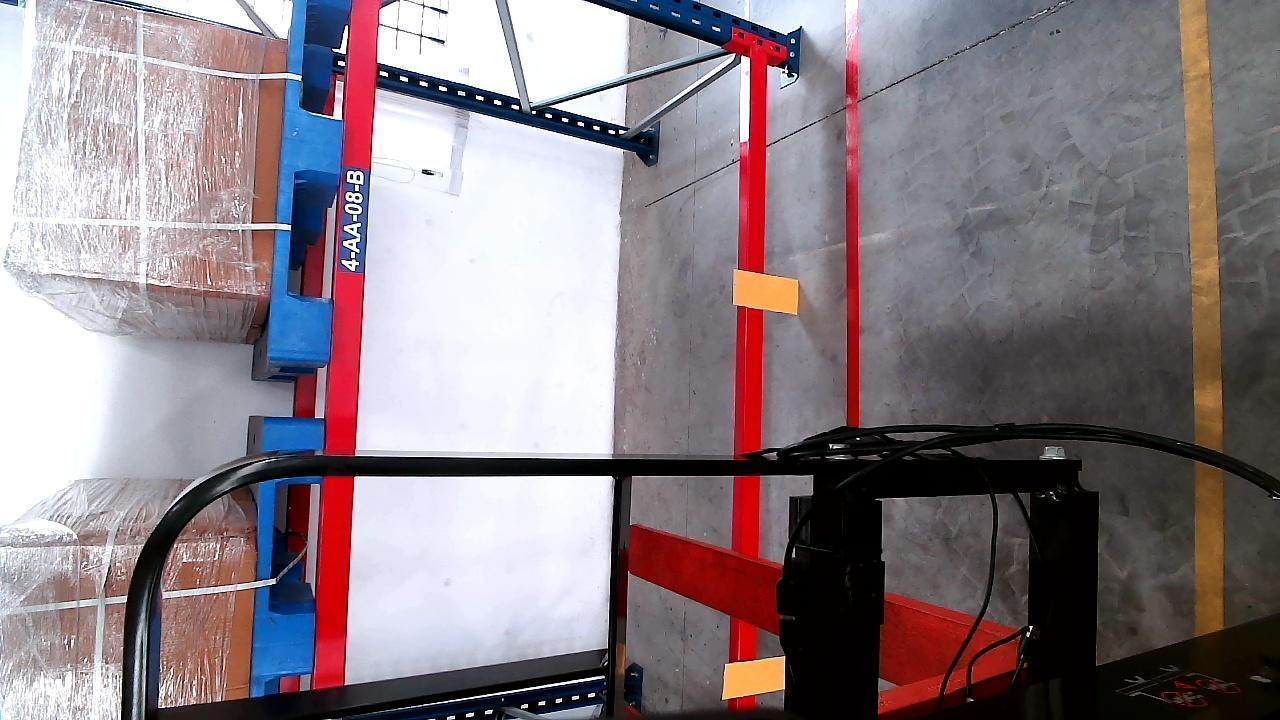red_line: (841, 13, 864, 424)
yellow_line: (1176, 0, 1226, 640)
